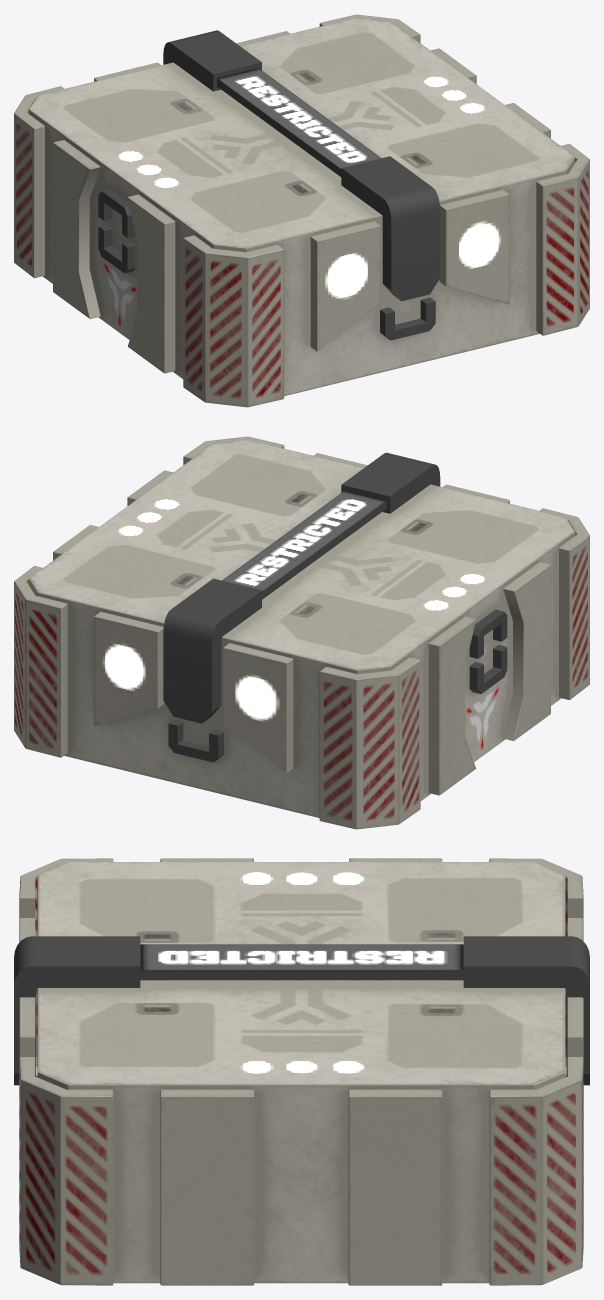
The model's file is SM_Crates3pt3-1.fbx.
The picture shows the model from 3 angles, top to bottom: view 1: azimuth 30°, elevation 25°; view 2: azimuth 150°, elevation 25°; view 3: azimuth 270°, elevation 25°; orthographic projection. The views are drawn at different scales.
Visible parts, largest first — view 1: SM_Crates3pt3-1_LOD0; view 2: SM_Crates3pt3-1_LOD0; view 3: SM_Crates3pt3-1_LOD0.
Part boxes in pixels (x1,y1,x2,y2): SM_Crates3pt3-1_LOD0: (14,14,589,407); SM_Crates3pt3-1_LOD0: (14,436,589,829); SM_Crates3pt3-1_LOD0: (14,858,589,1285).
Bounding box in the file's own units: 106 × 45.73 × 108.
1 material, 1 textured.
